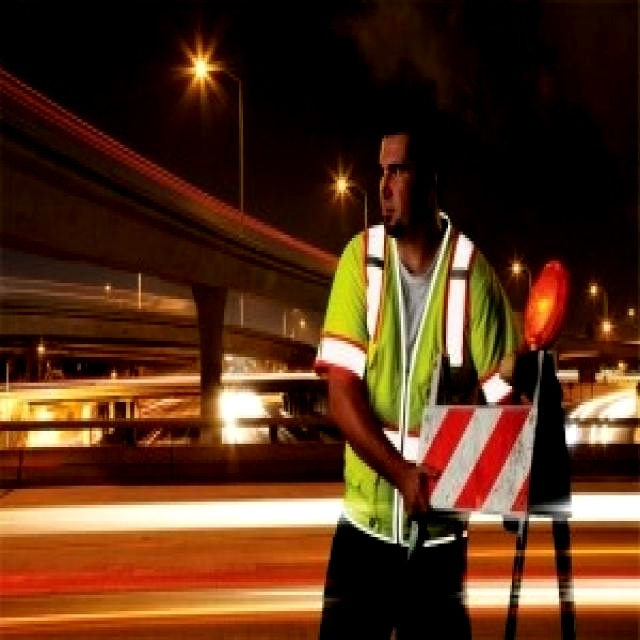Con_Chaleco: (349, 227, 475, 550)
Sin_Casco_Mascarrilla: (376, 112, 447, 222)
